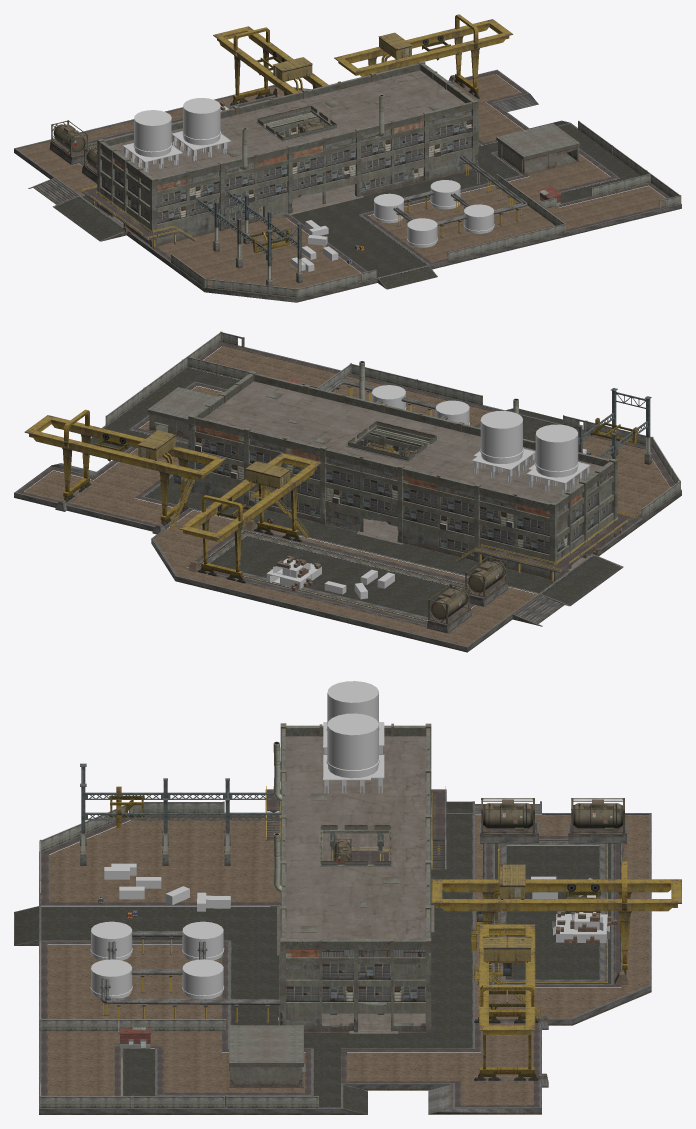
The model's file is Factory.fbx.
3 views of the same model, one above another, from view 1: azimuth 30°, elevation 25°; view 2: azimuth 150°, elevation 25°; view 3: azimuth 270°, elevation 25° (orthographic). The views are drawn at different scales.
Parts seen in each view (by area): view 1: factory0, factory floor3.001, factory floor2, factory floor, factory2, yellow crane.001, yellow crane, oil tank1, M_Warehouse_LOD0, factory1, pillars0, oil tank2 (+11 smaller); view 2: factory0, factory floor3.001, factory floor2, factory floor, factory2, yellow crane.001, yellow crane, factory1, oil tank3, oil tank2, M_Warehouse_LOD0, Factory stairs3 (+12 smaller); view 3: factory floor3.001, factory0, factory floor2, factory floor, yellow crane, yellow crane.001, oil tank1, M_Warehouse_LOD0, factory2, pillars0, oil tank2, oil tank.001 (+20 smaller).
Boxes of the visible parts, x1,y1,x2,y2 form: factory0: (97,61,478,247); factory floor3.001: (17,74,665,288); factory floor2: (53,121,639,288); factory floor: (14,69,681,302); factory2: (102,105,471,223); yellow crane.001: (334,14,513,98); yellow crane: (213,26,328,105); oil tank1: (373,180,494,247); M_Warehouse_LOD0: (496,123,580,175); factory1: (102,94,472,202); pillars0: (196,190,302,279); oil tank2: (182,98,221,145); factory0: (188,371,617,583); factory floor3.001: (24,346,670,646); factory floor2: (90,367,622,621); factory floor: (14,342,681,652); factory2: (196,421,611,563); yellow crane.001: (24,409,225,530); yellow crane: (178,453,321,583); factory1: (195,361,611,531); oil tank3: (535,424,578,477); oil tank2: (480,411,523,463); M_Warehouse_LOD0: (147,387,217,439); Factory stairs3: (525,511,634,583); factory floor3.001: (47,815,649,1105); factory0: (270,723,434,1033); factory floor2: (14,801,611,1113); factory floor: (14,801,651,1114); yellow crane: (431,861,681,975); yellow crane.001: (474,924,540,1080); oil tank1: (90,921,224,998); M_Warehouse_LOD0: (229,1025,305,1087); factory2: (286,825,425,1001); pillars0: (80,763,281,852); oil tank2: (326,713,379,778); oil tank.001: (571,798,624,833).
Size of the model in its own units: 14942 by 3274 by 13459.
